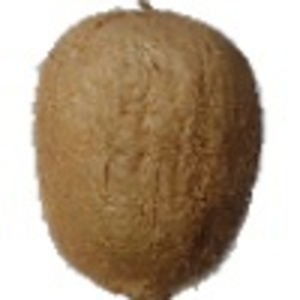kiwi: (29, 1, 264, 300)
